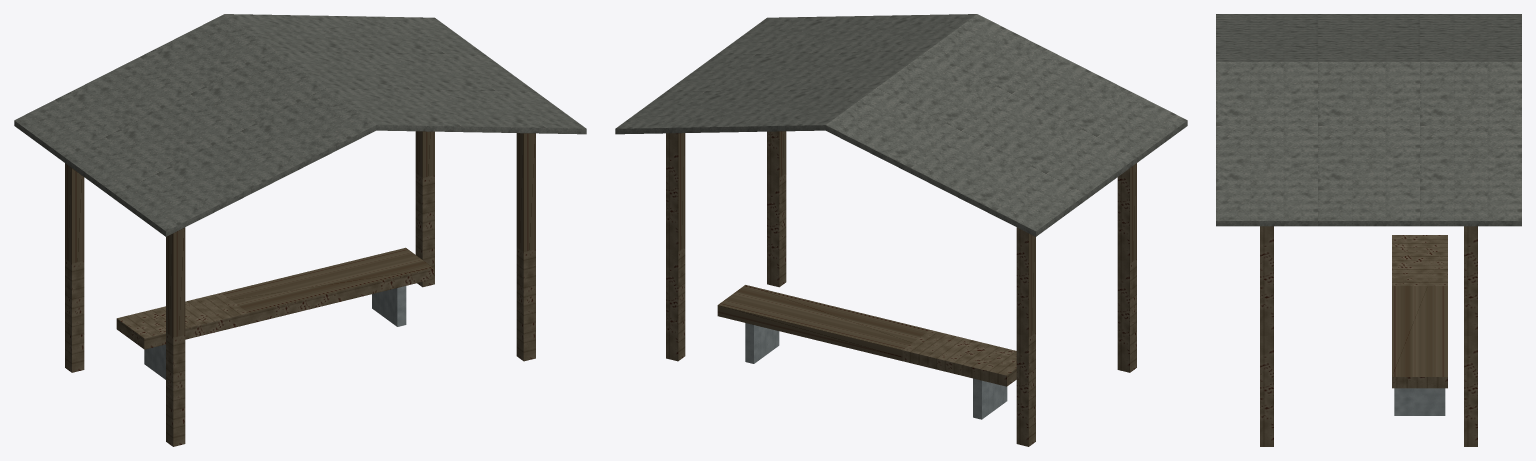
The model's file is RN_parada_rural.gltf.
3 views of the same model, side by side, from view 1: azimuth 30°, elevation 25°; view 2: azimuth 150°, elevation 25°; view 3: azimuth 270°, elevation 25° (orthographic).
Parts seen in each view (by area): view 1: parada_rural_TELHADO, parada_rural_POSTE, parada_rural_BANCO, parada_rural_PE_BANCO; view 2: parada_rural_TELHADO, parada_rural_POSTE, parada_rural_BANCO, parada_rural_PE_BANCO; view 3: parada_rural_TELHADO, parada_rural_BANCO, parada_rural_POSTE, parada_rural_PE_BANCO.
Boxes of the visible parts, x1=… form: parada_rural_TELHADO: x1=14, y1=14, x2=586, y2=236; parada_rural_POSTE: x1=65, y1=131, x2=535, y2=446; parada_rural_BANCO: x1=116, y1=247, x2=433, y2=349; parada_rural_PE_BANCO: x1=144, y1=286, x2=406, y2=379; parada_rural_TELHADO: x1=615, y1=14, x2=1187, y2=236; parada_rural_POSTE: x1=666, y1=131, x2=1136, y2=446; parada_rural_BANCO: x1=717, y1=285, x2=1016, y2=386; parada_rural_PE_BANCO: x1=745, y1=323, x2=1007, y2=419; parada_rural_TELHADO: x1=1216, y1=14, x2=1521, y2=226; parada_rural_BANCO: x1=1392, y1=235, x2=1447, y2=388; parada_rural_POSTE: x1=1260, y1=226, x2=1477, y2=446; parada_rural_PE_BANCO: x1=1394, y1=388, x2=1445, y2=415.
Bounding box in the file's own units: 4.8 × 3.2 × 3.
3 materials, 3 textured.
